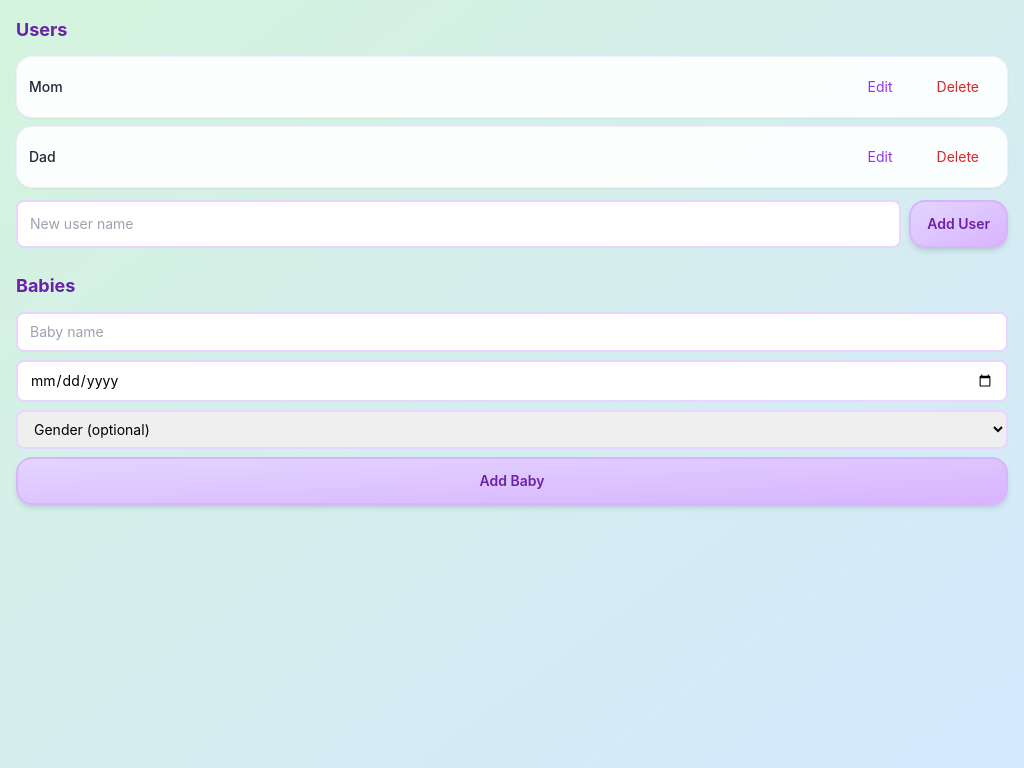
Test: Admin — edit user › sends PATCH to update user name and closes modal
Click the button with aria-label "Edit Mom".
click(880, 87)  # box 852,69 -> 909,105
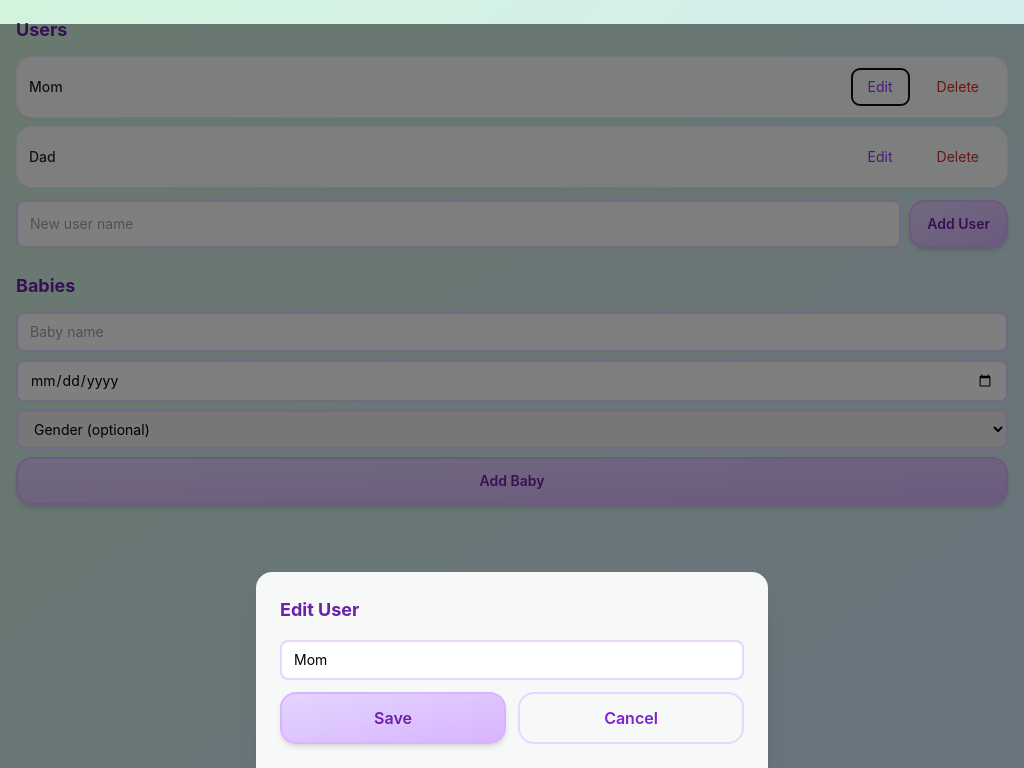
Replace the text in the field showing "Mom" with "Mama" at (512, 660), box 280,640 -> 744,680
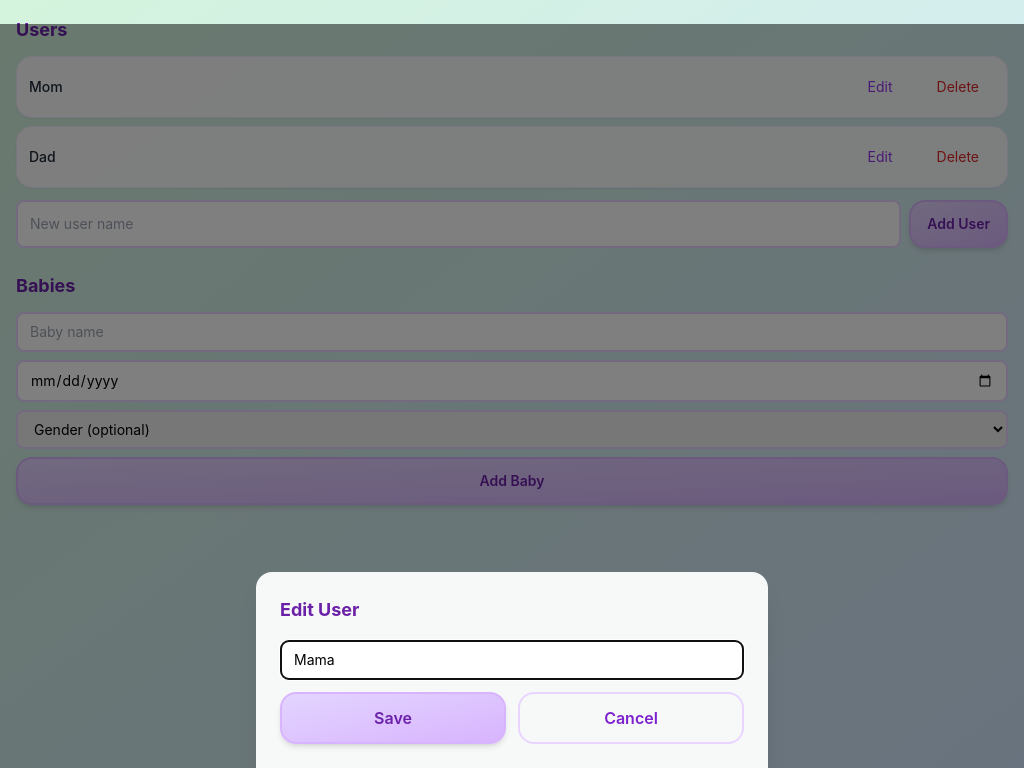
Click the button "Save".
click(393, 718)  # box 280,692 -> 506,744
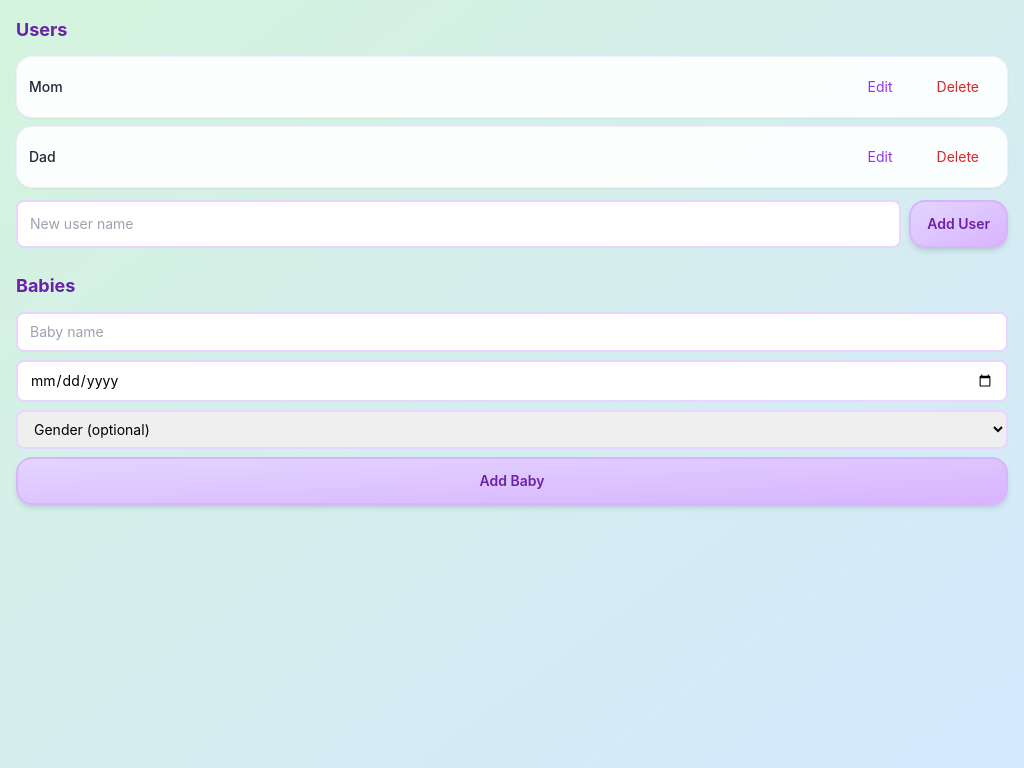
Result: the heading "Edit User" is gone
